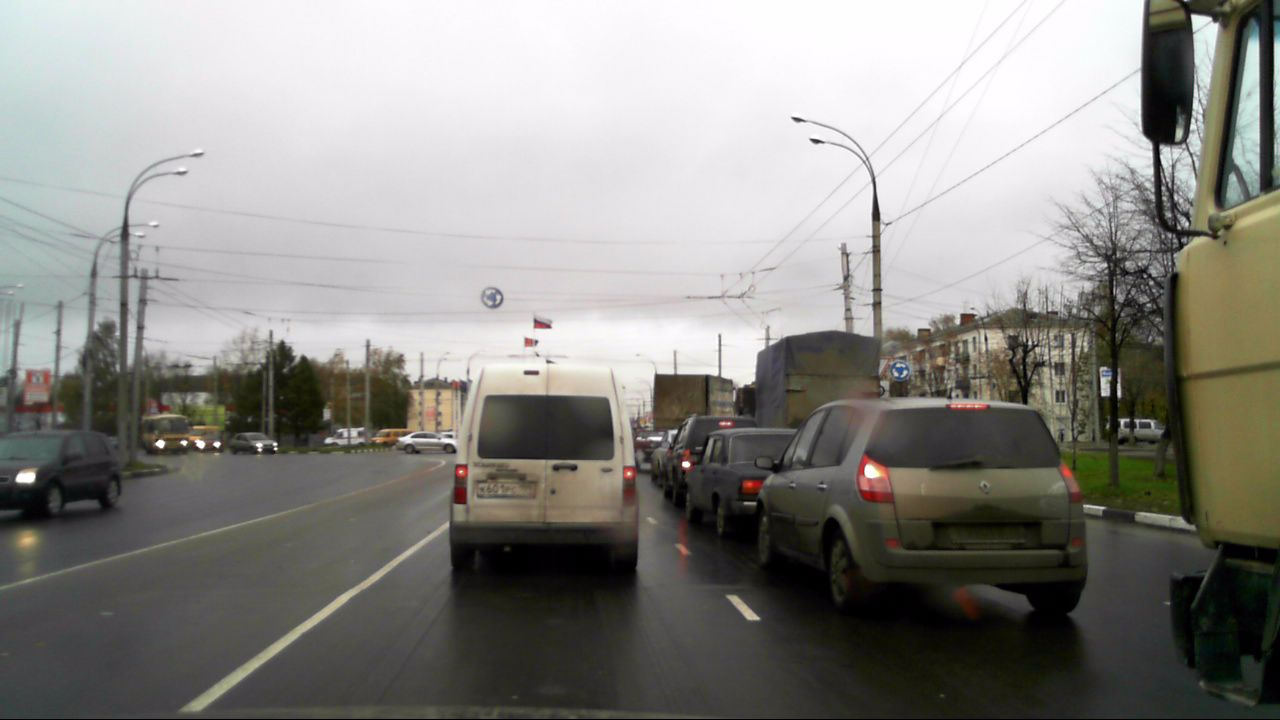Round-About: (480, 286, 504, 310)
